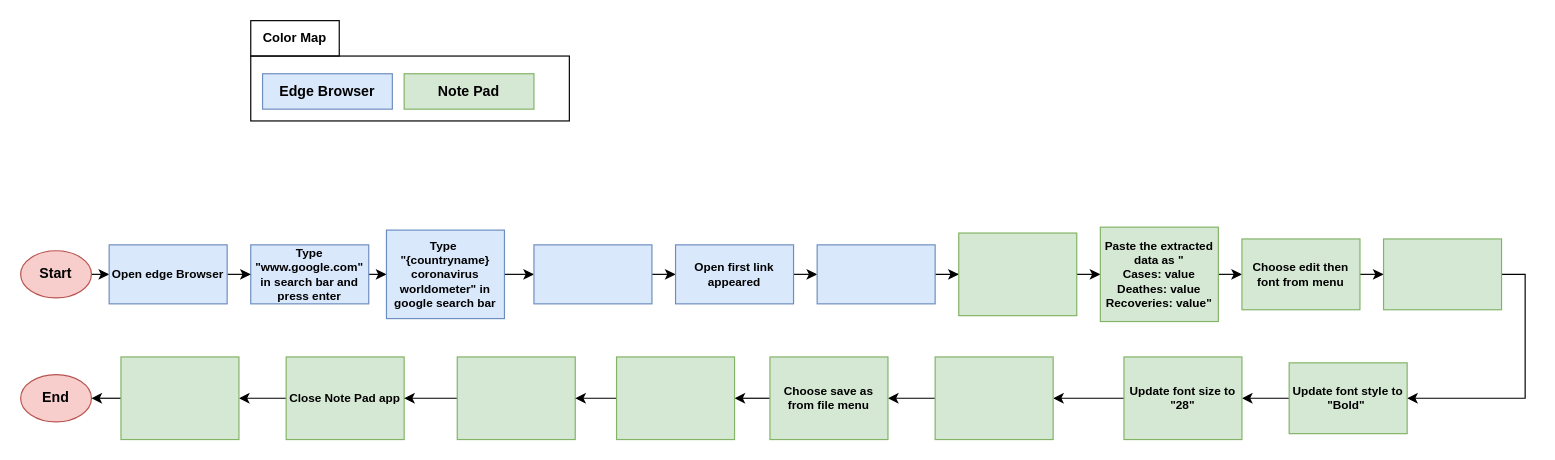
The diagram is 1555 pixels wide and 460 high, and some of its shapes have lost their labels. The box of each missing label's shape, as (x1, y1, x2, y2) in pixels:
Change file name to "{countryname}-date.now} and click save: (456, 356, 575, 440)
Choose location to be inside folder "Corona Numbers": (615, 356, 735, 440)
Close Edge Browser: (120, 356, 239, 440)
Extract cases, deathes, recoveries values: (816, 244, 935, 304)
Go back to file: (934, 356, 1053, 440)
Open NotePad App: (958, 232, 1077, 316)
Press google search: (533, 244, 652, 304)
Update font type to "fixedsys": (1382, 238, 1502, 310)
